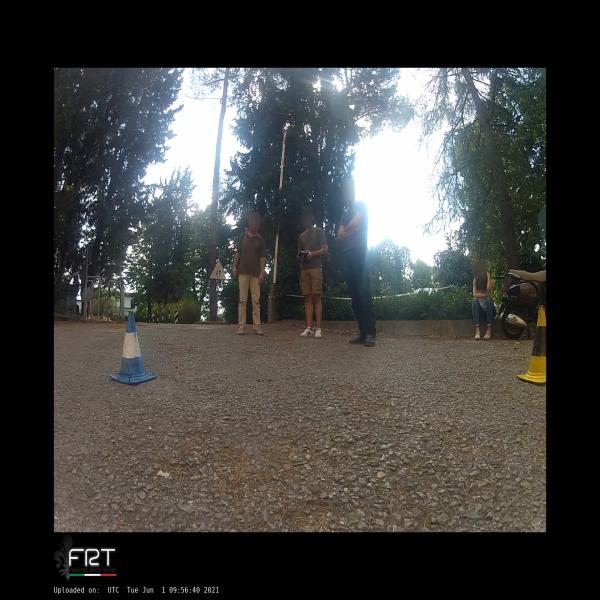blue_cone: (109, 311, 156, 384)
yellow_cone: (516, 305, 546, 385)
